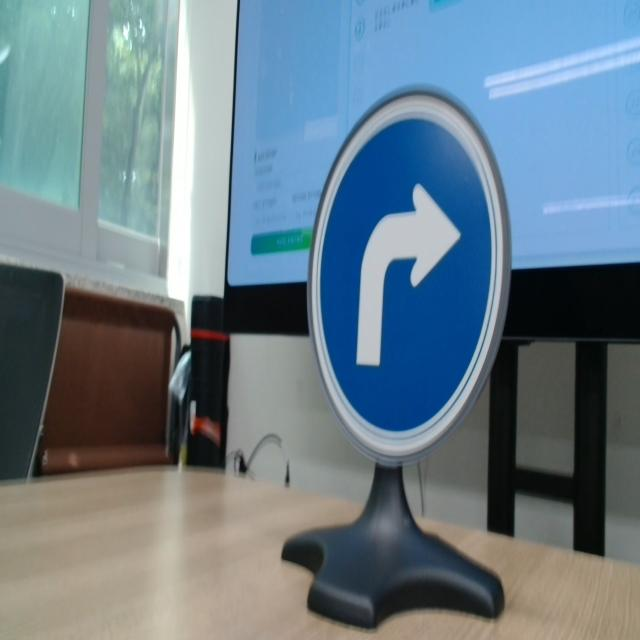right_dierection: (304, 75, 510, 462)
